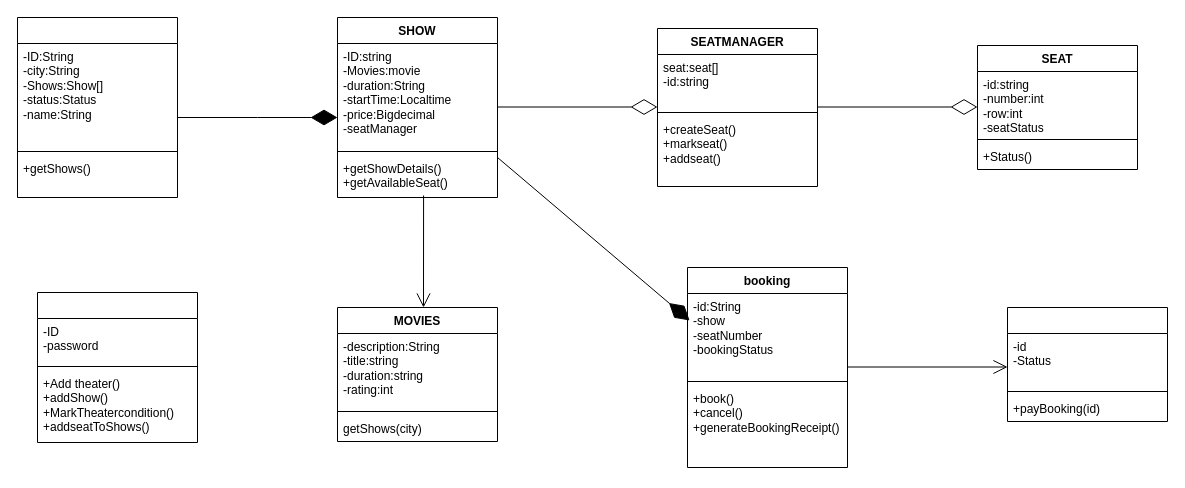
Image size: 1185x488. Some labels were removed from this diagram. The shapes that lost their labels are listed below. From the top down, each one's box as (x1, y1, x2, y2) in pixels, then its label:
(16, 16, 178, 198): THREATER
(36, 292, 198, 442): ADMIN
(1006, 306, 1168, 422): Payment
